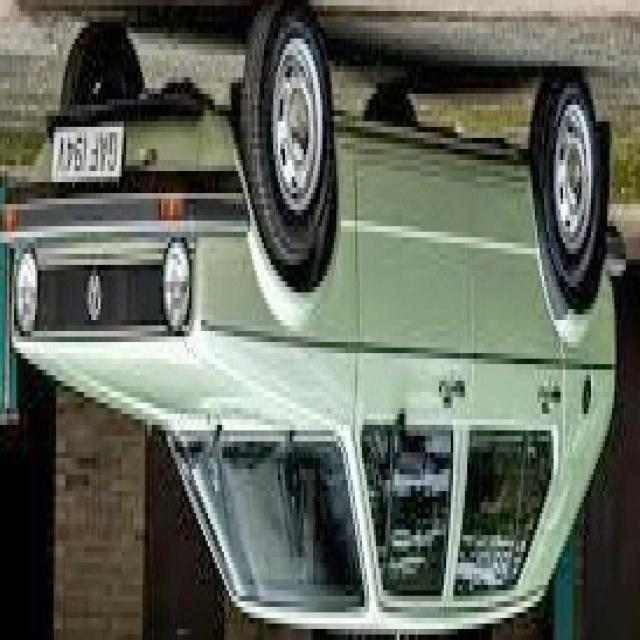green: (3, 0, 624, 632)
